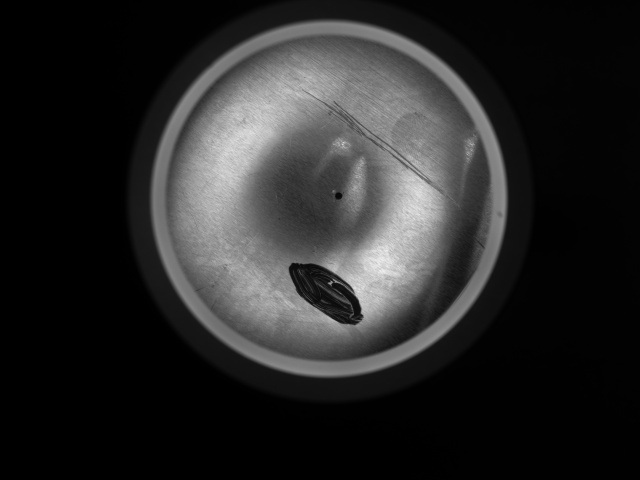ca_shang: (295, 84, 465, 212)
zang_wu: (287, 261, 367, 328)
zhen_kong: (334, 188, 346, 203)
